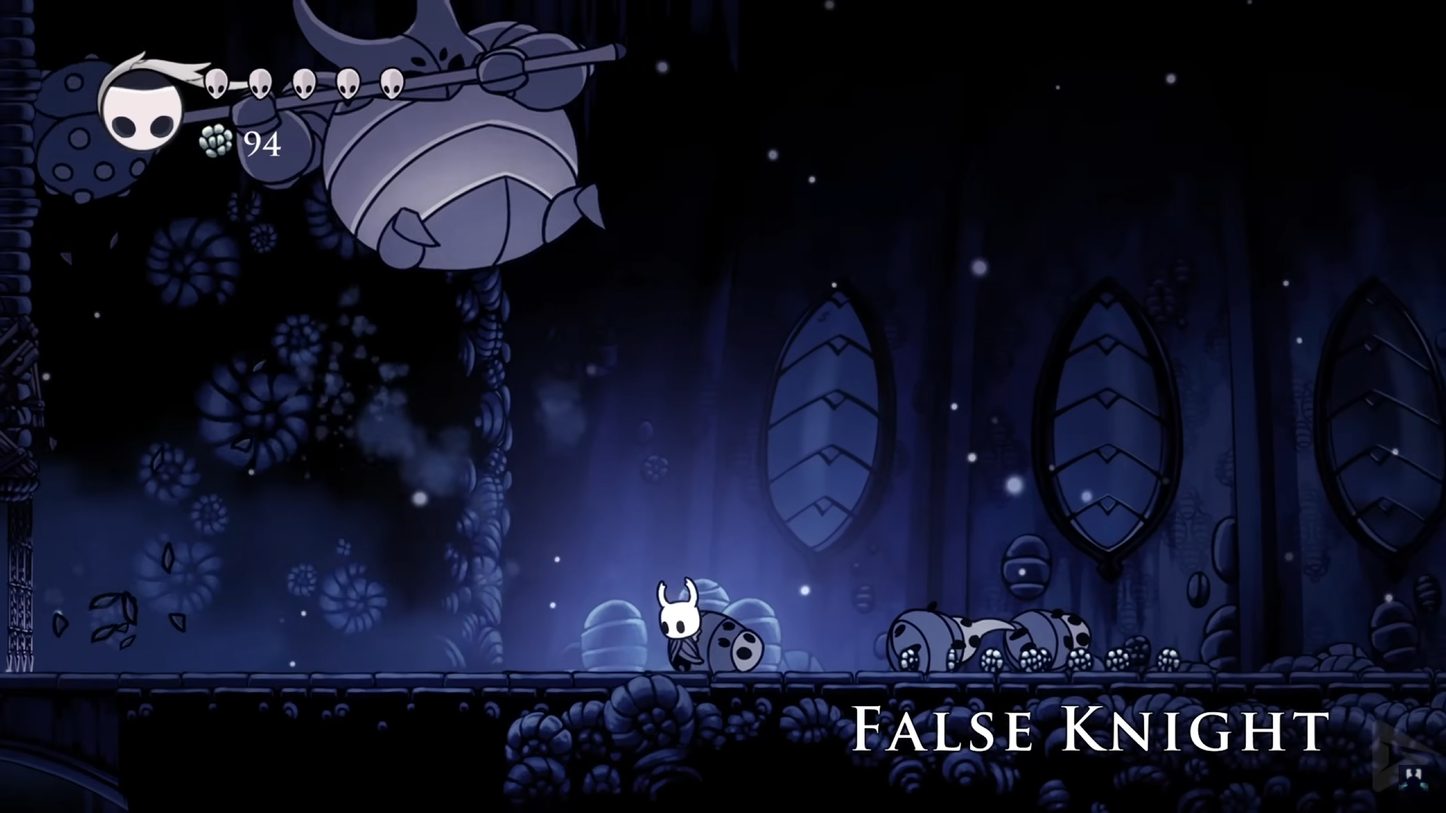HK: (656, 579, 710, 675)
